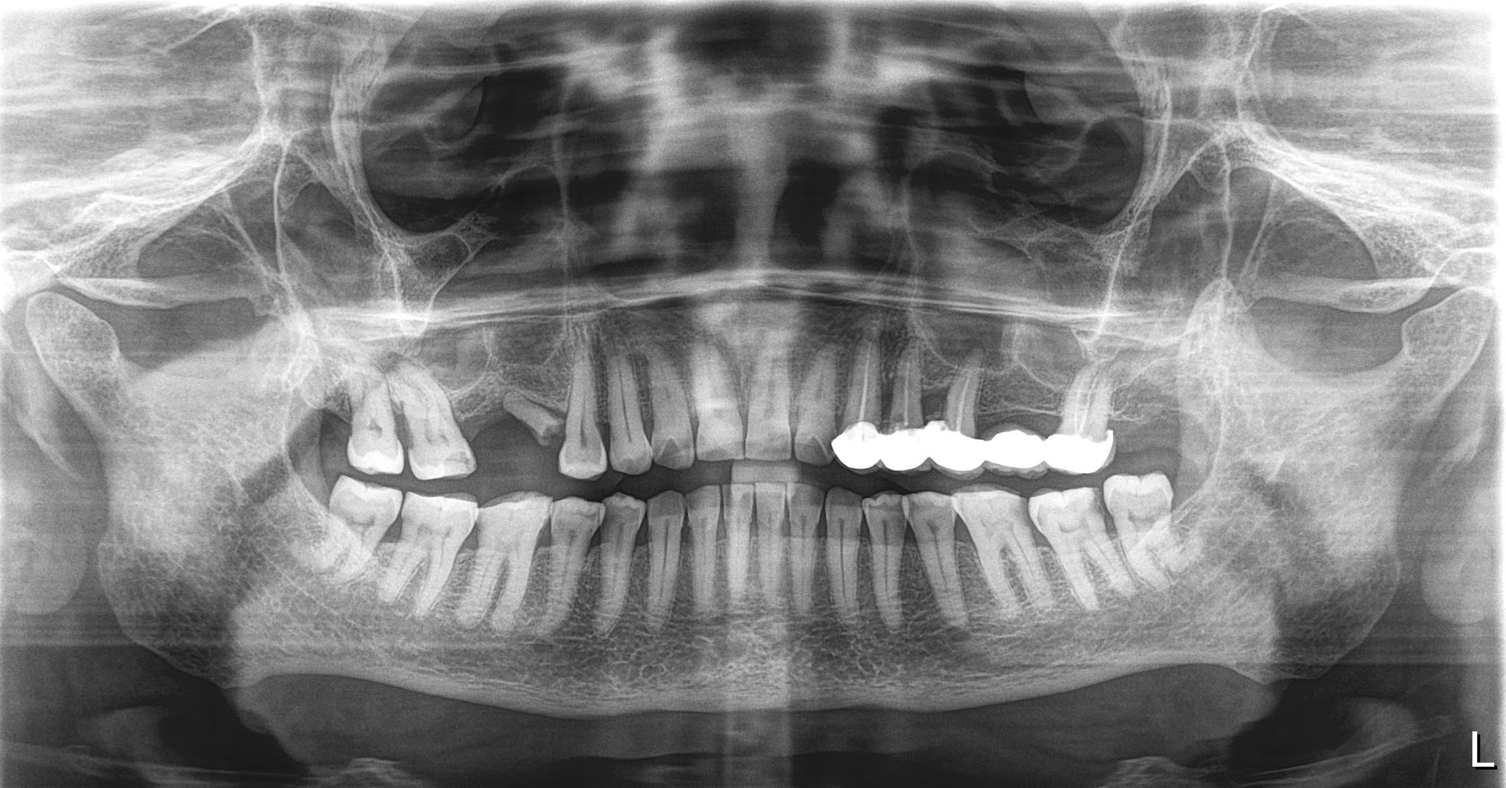Endodontically Treated Tooth: (1048, 355, 1105, 467), (945, 353, 992, 472), (886, 347, 933, 465), (847, 340, 888, 464), (998, 351, 1039, 467)
Missing Tooth: (1116, 349, 1183, 474), (300, 377, 354, 472), (457, 366, 496, 472)
Retained Root: (500, 371, 563, 464)
